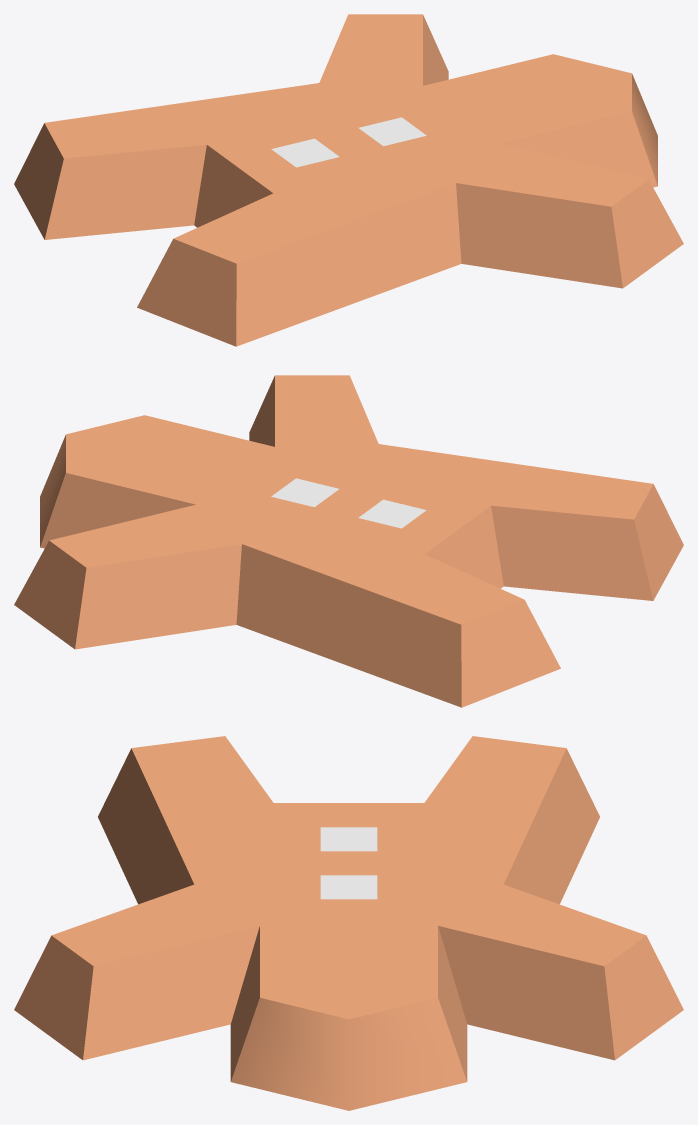
File: gingerBread.GLB
3 renders of one model, top to bottom at view 1: azimuth 30°, elevation 25°; view 2: azimuth 150°, elevation 25°; view 3: azimuth 270°, elevation 25°, orthographic. The views are drawn at different scales.
Parts seen in each view (by area): view 1: gingerBread; view 2: gingerBread; view 3: gingerBread.
Part boxes in pixels (x1,y1,x2,y2): gingerBread: (14,14,683,346); gingerBread: (14,375,683,707); gingerBread: (14,736,683,1110).
Size of the model in its own units: 0.2604 by 0.03 by 0.2356.
